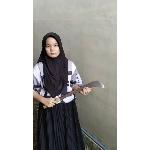Golok: (43, 79, 107, 109)
